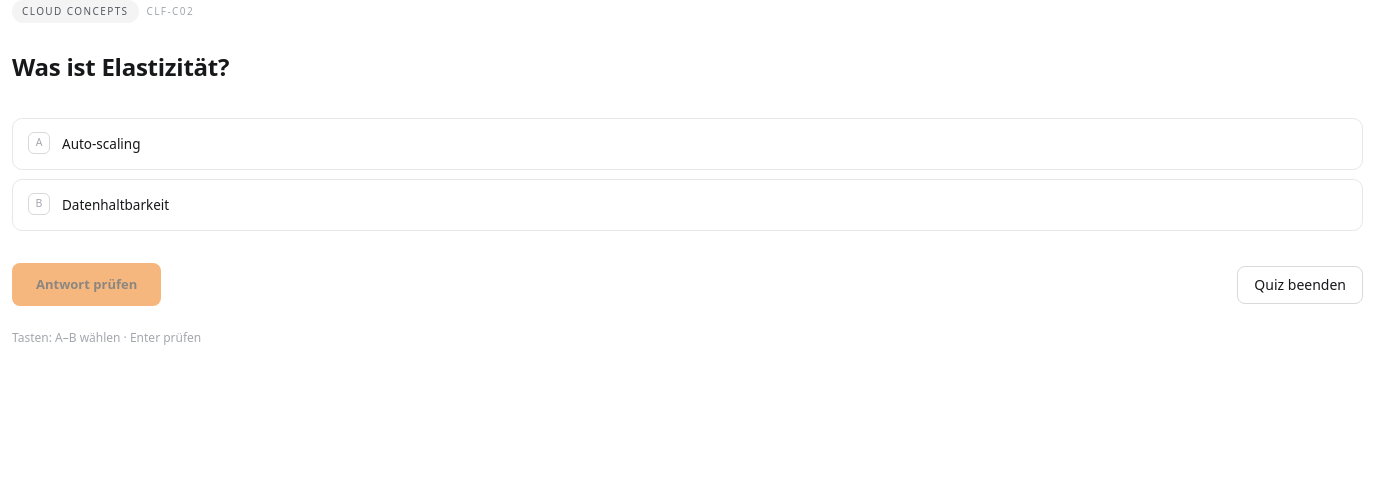
QuestionCard (behaviour preserved through re-skin) › marks correct green / wrong red and disables options after check
Pick the WRONG option B, then check.
Click the button "B Datenhaltbarkeit".
click(116, 205)  # box [12,179,1363,231]
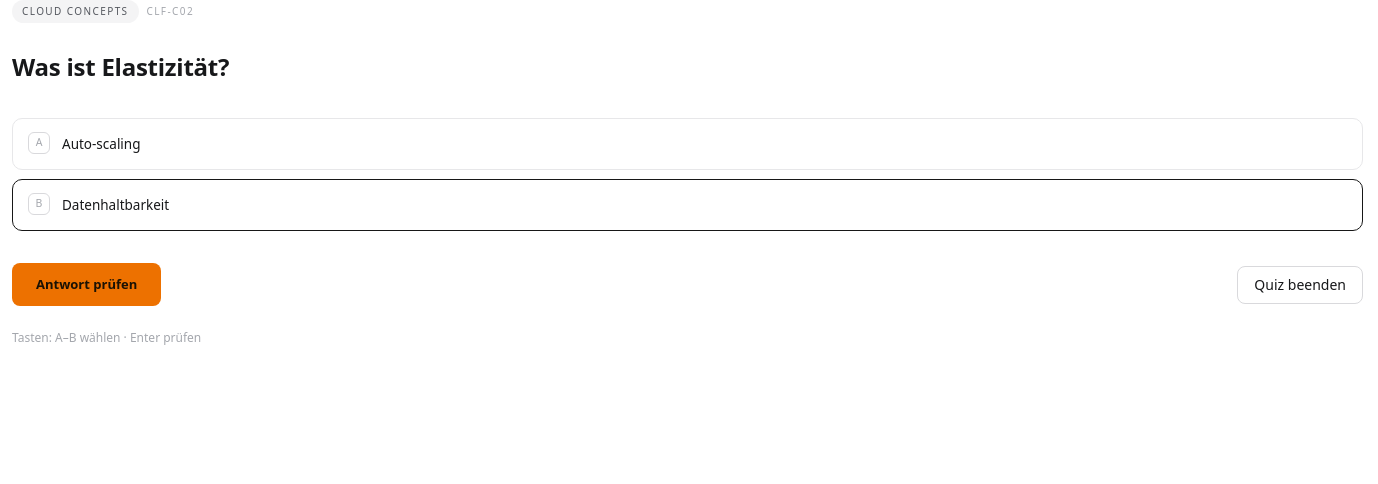
Click the button "Antwort prüfen".
click(87, 285)  # box [12,263,161,306]
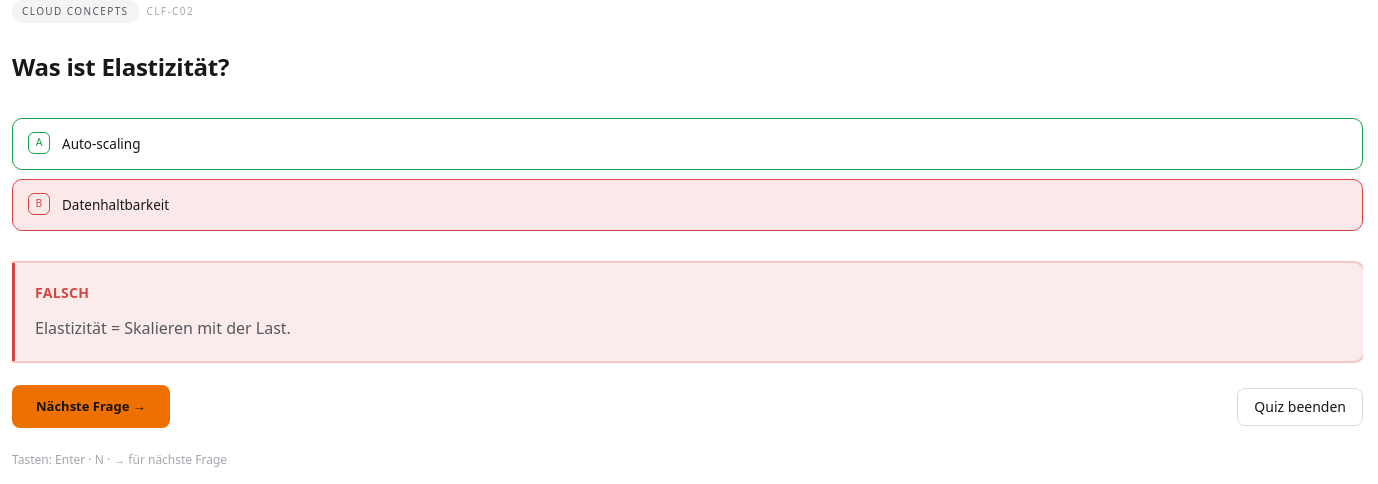
Expected: the text "Falsch" is shown, [35,283,89,302]
Expected: the text "Elastizität = Skalieren mit der Last." is shown, [35,317,291,339]
Expected: the button "A Auto-scaling" is disabled, [12,118,1363,170]
